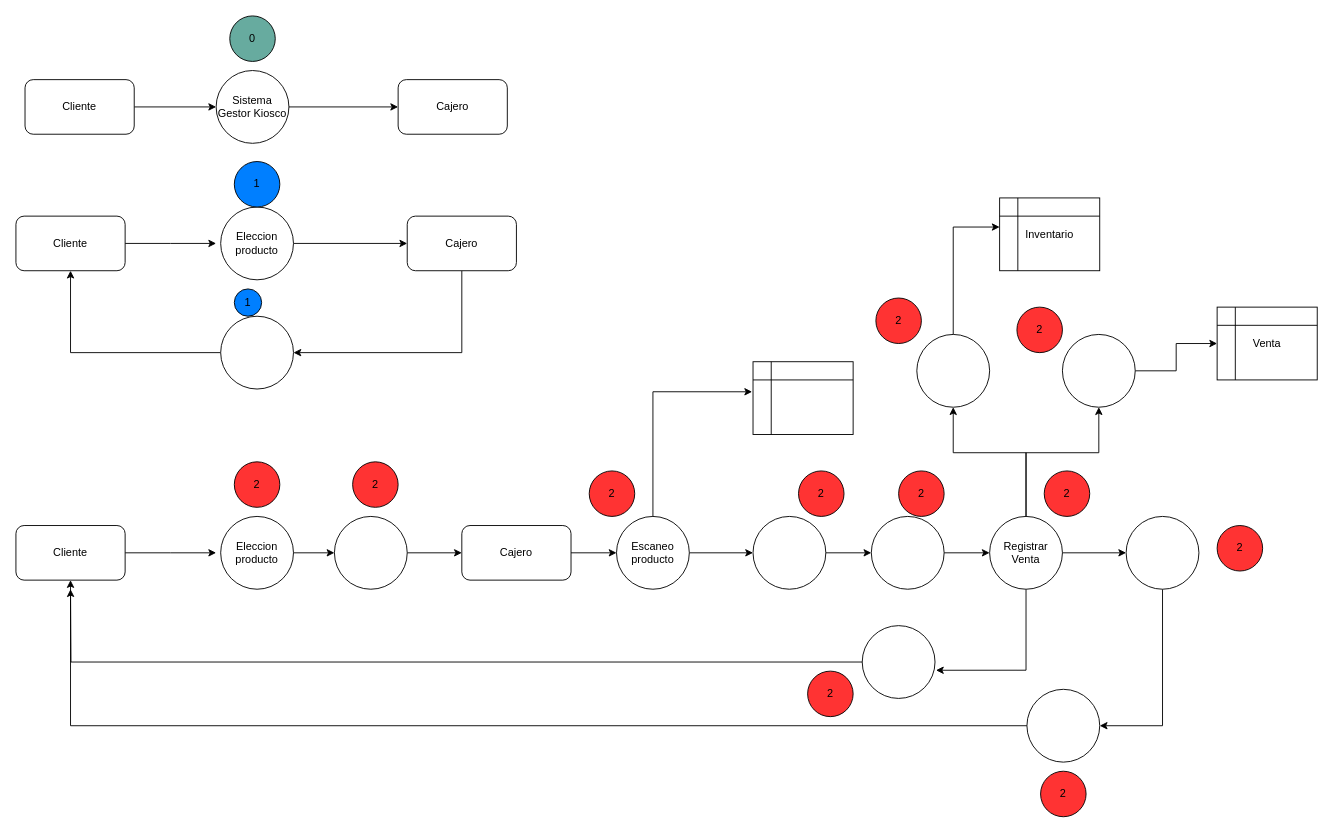
The diagram is 1333 pixels wide and 833 high, and some of its shapes have lost their labels. The centre of each missing label's shape, as x and y in pixels:
Añadir Venta a BD: (1098,370)
Calcular Vuelto: (1162,552)
Devolucion Comprobantes y vuelto: (256,352)
Devolver Vuelto: (1063,725)
Emitir Recibo: (898,661)
Entrega de Producto al cajero: (370,552)
Informar Valor al Cliente: (789,552)
Pago Cliente: (907,552)
Productos: (802,398)
Restar Stock Inventario: (953,370)
